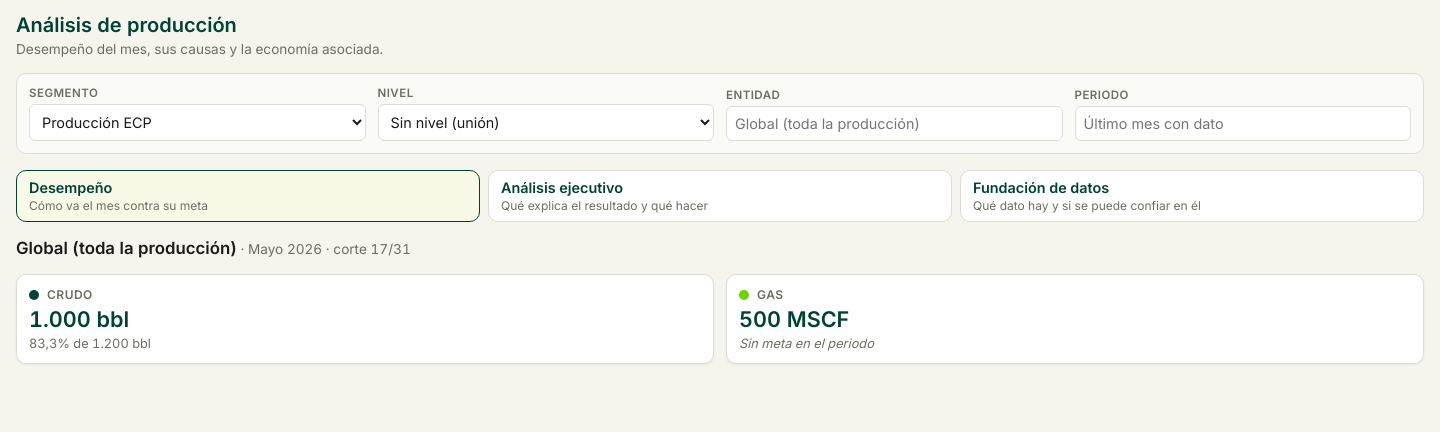
Test: AnalisisPage › permite cambiar de sección
Check: the heading "CRUDO" is shown, box 47,287 -> 93,302
Click the text "Análisis ejecutivo": {"x": 562, "y": 188} 501,179 -> 623,196
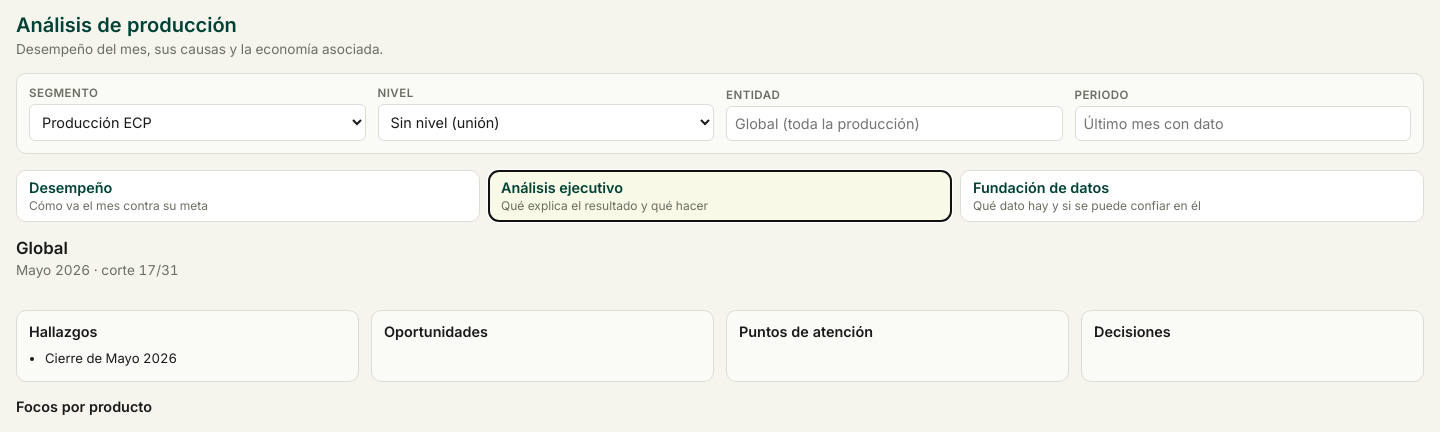
Check: the list item "Cierre de Mayo 2026" is shown, box 45,350 -> 177,366
